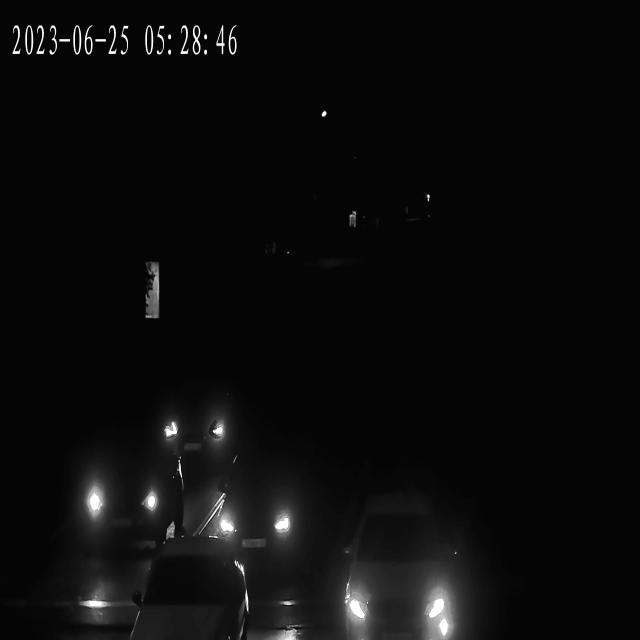Car: (347, 496, 452, 640), (132, 545, 246, 640), (222, 444, 310, 562), (87, 437, 186, 539), (162, 364, 246, 472)
